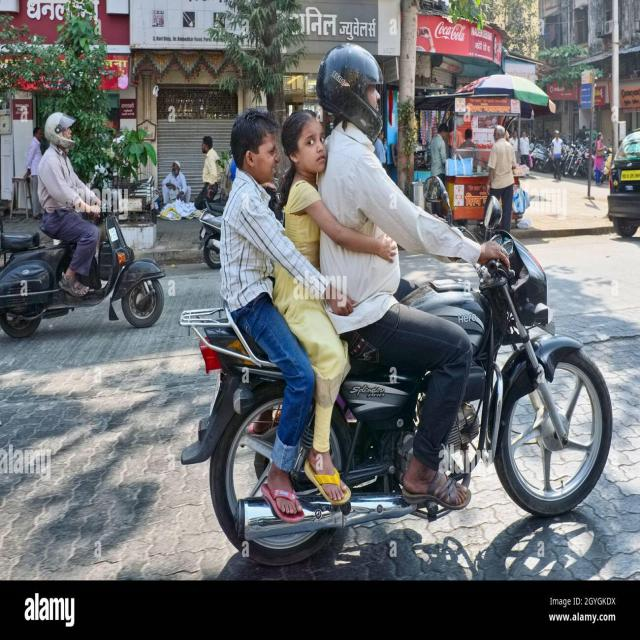Triple Riding: (193, 30, 529, 420)
